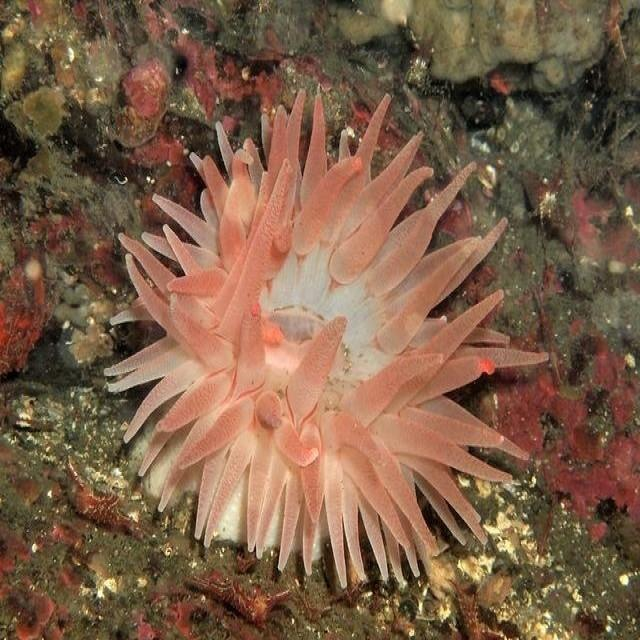reefs: (103, 88, 550, 588)
